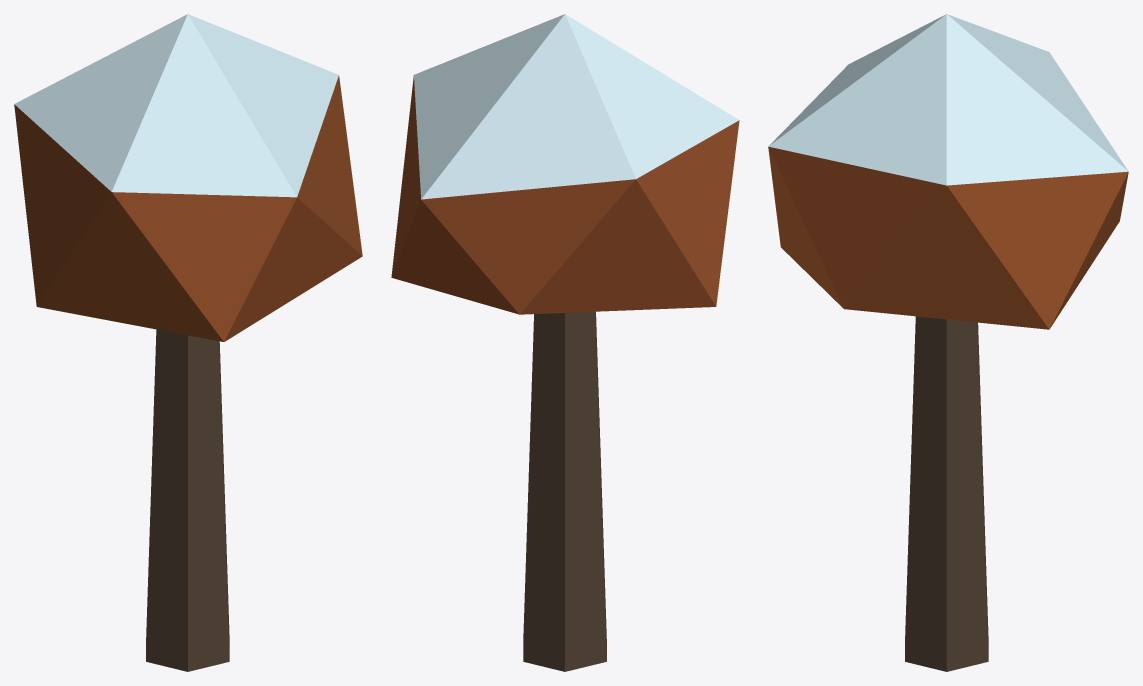
File: SM_Env_Generic_Tree_06_Snow.fbx
The picture shows the model from 3 angles, left to right: view 1: azimuth 30°, elevation 25°; view 2: azimuth 150°, elevation 25°; view 3: azimuth 270°, elevation 25°; orthographic projection.
Parts seen in each view (by area): view 1: SM_Env_Generic_Tree_06_Snow; view 2: SM_Env_Generic_Tree_06_Snow; view 3: SM_Env_Generic_Tree_06_Snow.
Part boxes in pixels (x1,y1,x2,y2): SM_Env_Generic_Tree_06_Snow: [14, 14, 362, 671]; SM_Env_Generic_Tree_06_Snow: [391, 14, 739, 671]; SM_Env_Generic_Tree_06_Snow: [768, 14, 1128, 671].
Bounding box in the file's own units: 46.3 × 93.28 × 47.81.
1 material, 1 textured.
